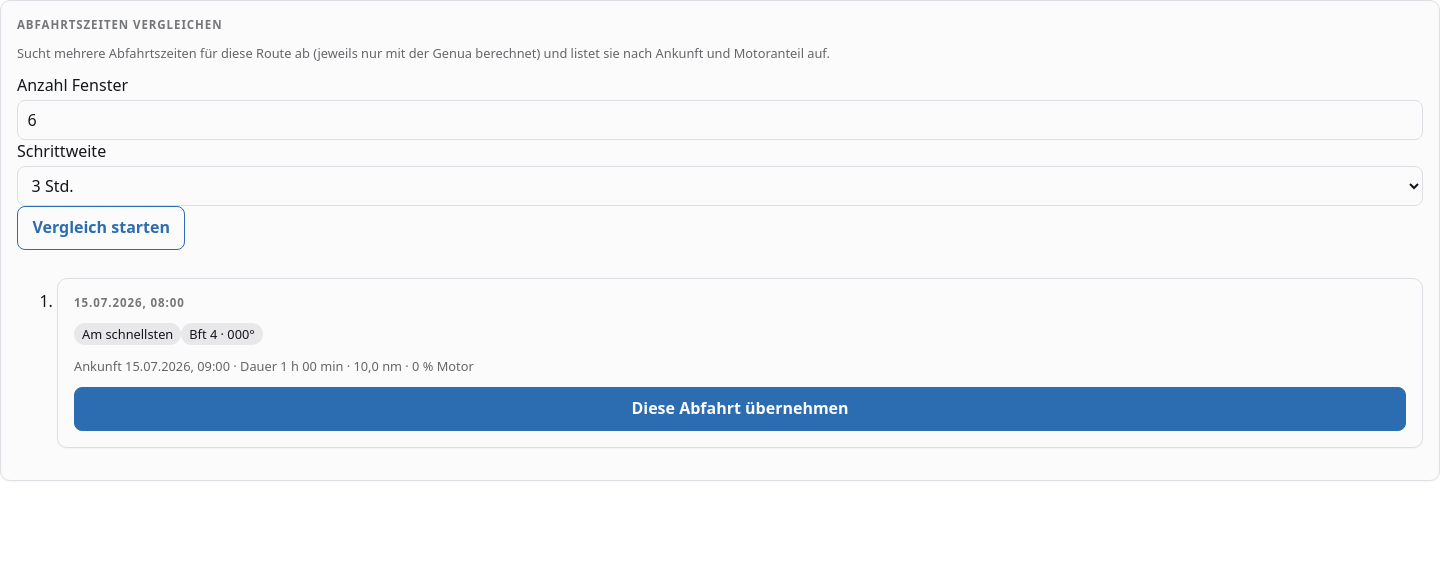
Test: DepartureCompare › #937 confirm action › #1716: a disagreement on a tier-C boat is worded as indicative
Click the button "Diese Abfahrt übernehmen".
click(740, 409)  # box [74,387,1406,431]
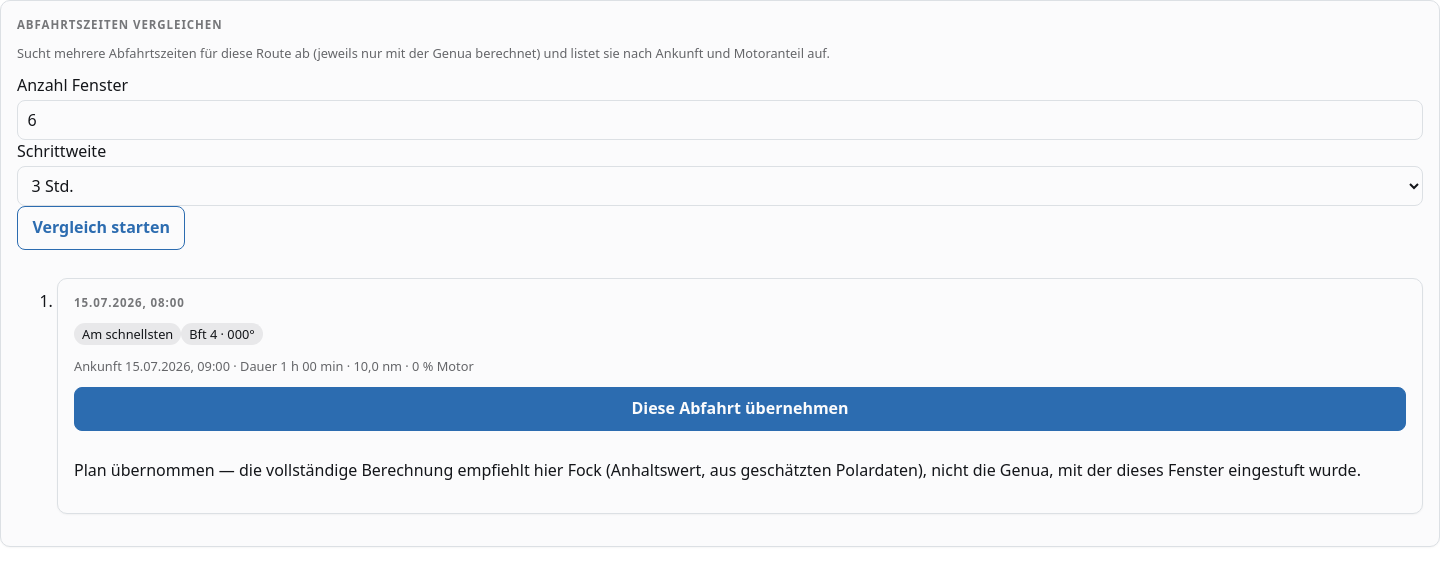
Expected: the text "Plan übernommen — die vollständige Berechnung empfiehlt hier Fock (Anhaltswert, aus geschätzten Polardaten), nicht die G" is shown, [74,459,1361,481]
